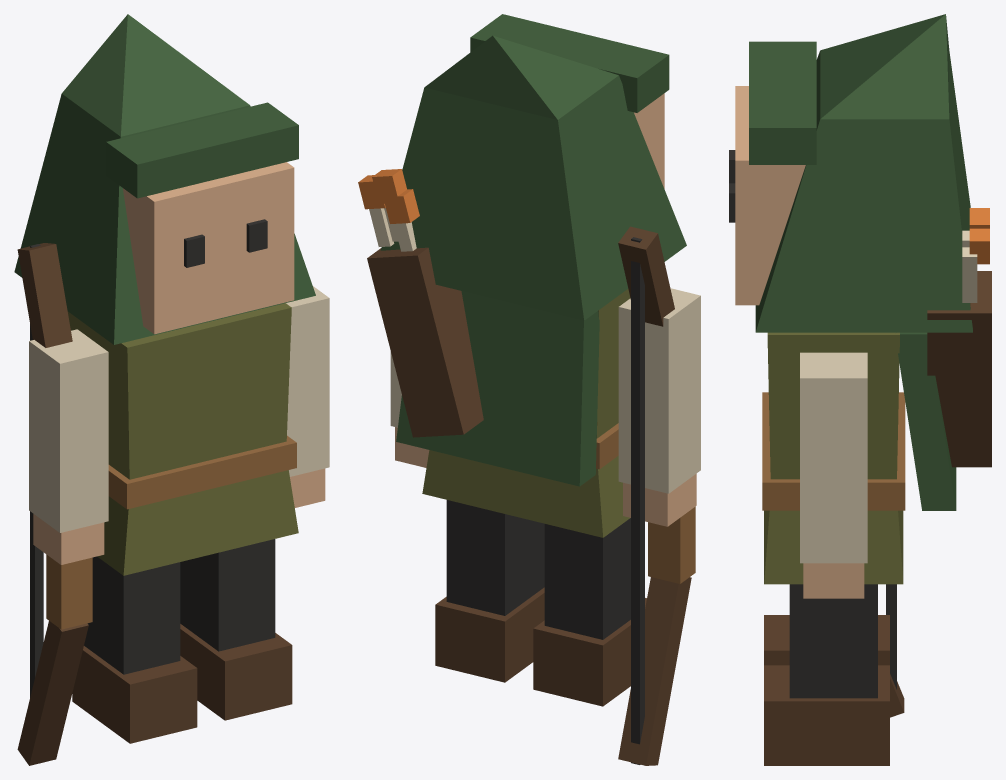
File: archer.glb
3 renders of one model, left to right at view 1: azimuth 30°, elevation 25°; view 2: azimuth 150°, elevation 25°; view 3: azimuth 270°, elevation 25°, orthographic. The views are drawn at different scales.
Parts seen in each view (by area): view 1: Archer; view 2: Archer; view 3: Archer.
Part boxes in pixels (x1,y1,x2,y2): Archer: [14, 14, 329, 765]; Archer: [358, 14, 700, 765]; Archer: [729, 14, 991, 765].
Bounding box in the file's own units: 0.5335 × 1.32 × 0.4124.
